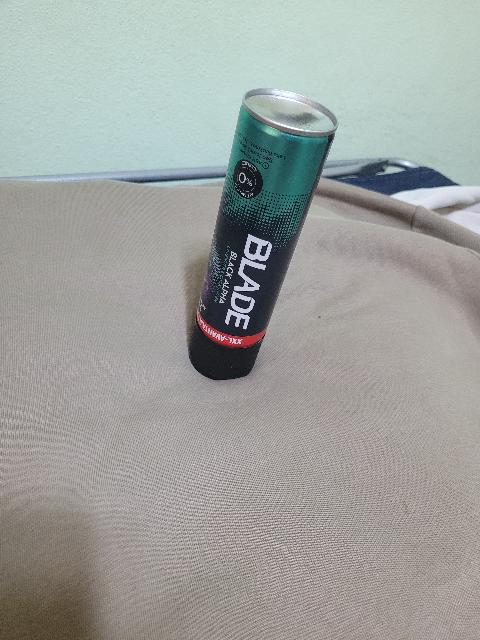Metal: (174, 91, 342, 384)
